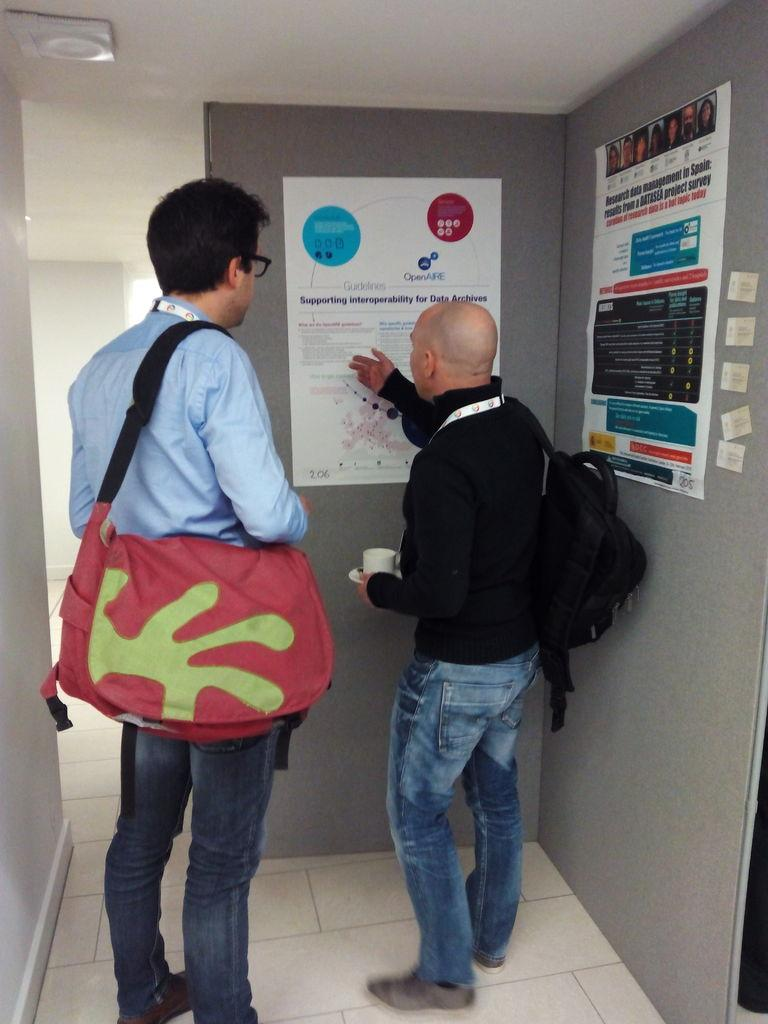Luggage-and-bags: (61, 507, 337, 746), (513, 397, 653, 733)
